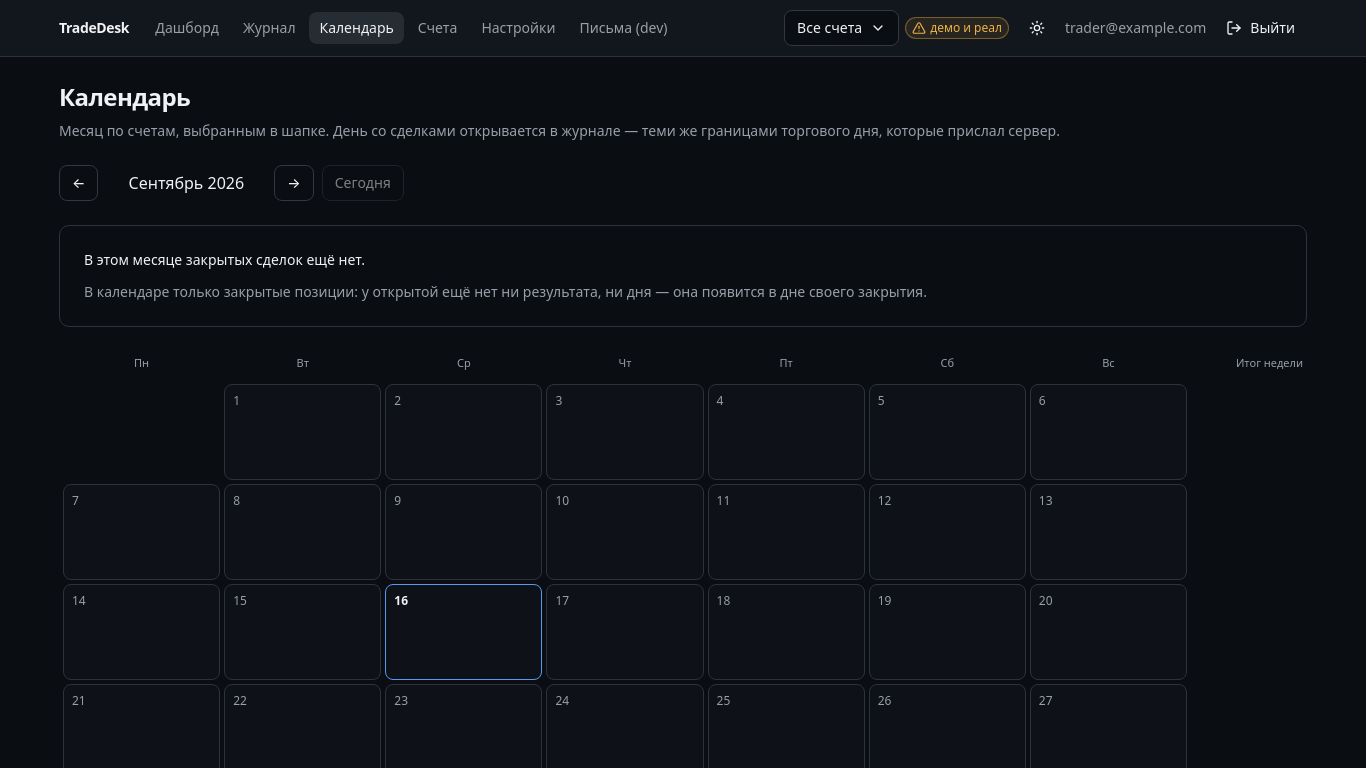
пресеты выбора › «Все реальные» показан, когда счета обоих видов: только там у пресета есть смысл
Check: the heading "Календарь" is shown, box [59,80,190,113]
Click the button with aria-label "Выбрать счета. В выборке демо и реальные счета вместе".
click(842, 28)  # box [784,10,899,46]
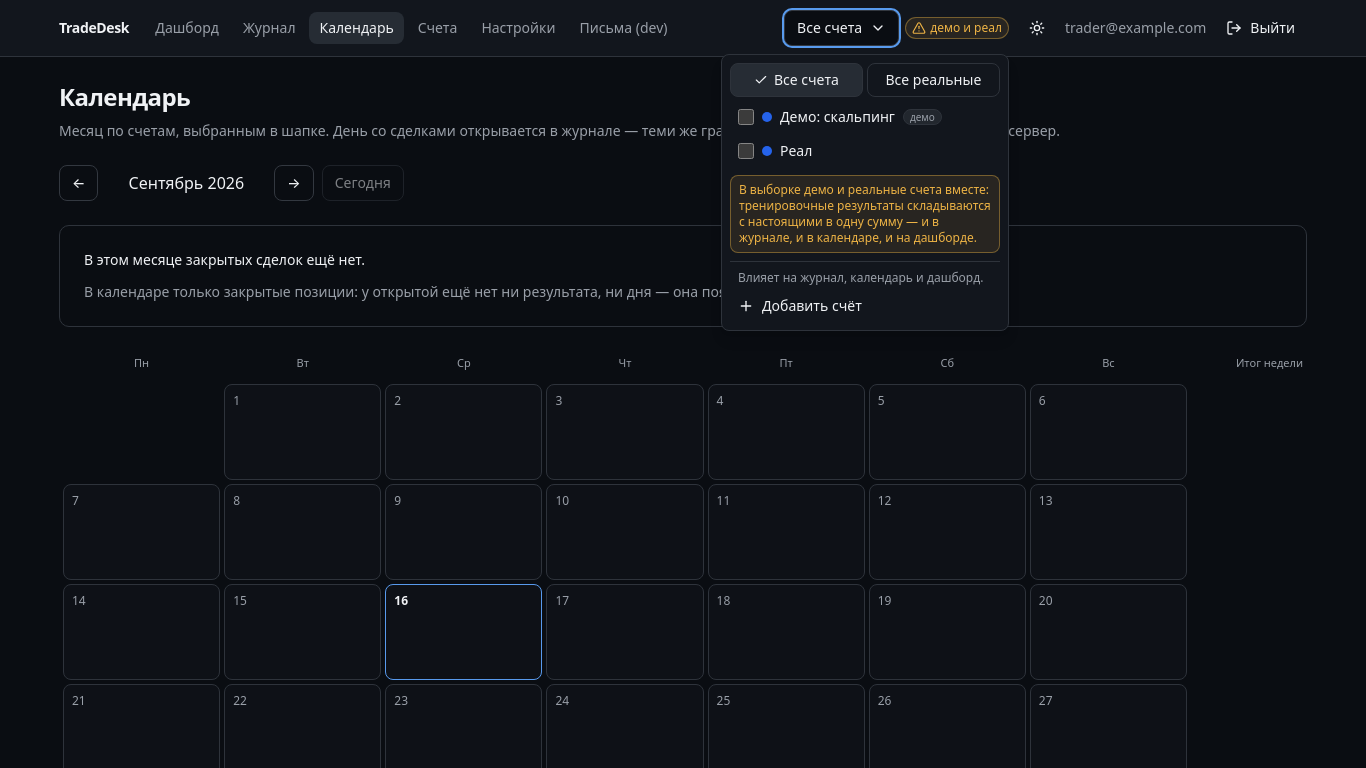
Check: the 2nd button "Все счета" is shown, box [730,63,863,97]
Check: the button "Все реальные" is shown, box [867,63,1000,97]
